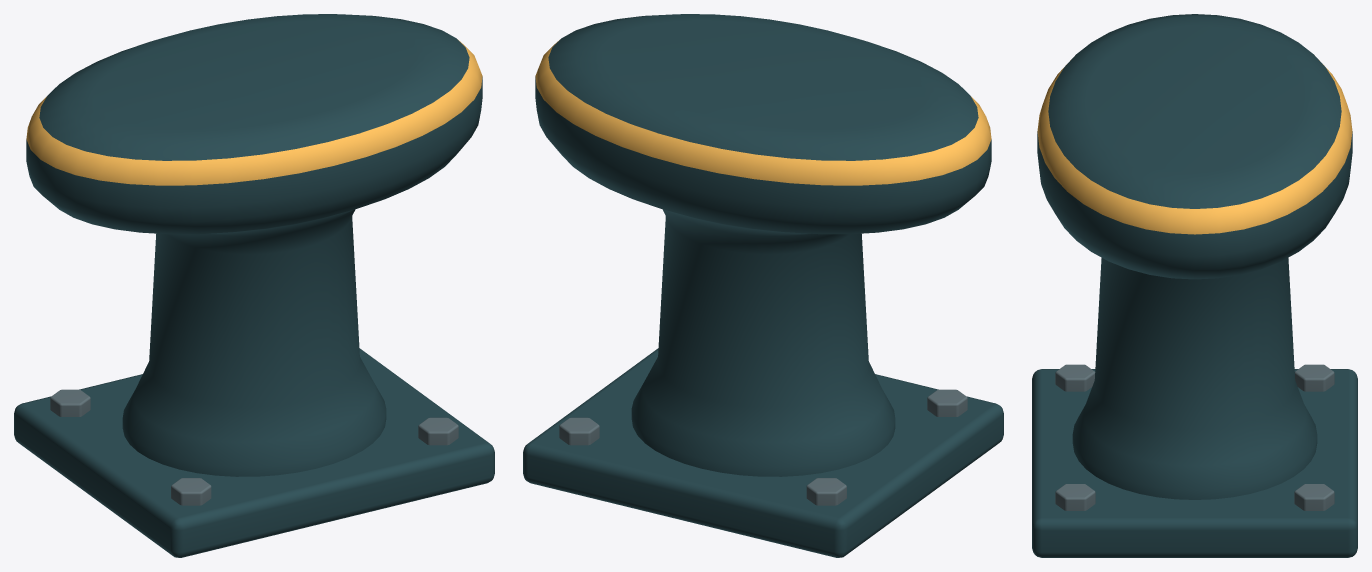
File: city_quay_furniture_01.glb
3 renders of one model, left to right at view 1: azimuth 30°, elevation 25°; view 2: azimuth 150°, elevation 25°; view 3: azimuth 270°, elevation 25°, orthographic.
Parts seen in each view (by area): view 1: CityQuayFurniture01_Mesh; view 2: CityQuayFurniture01_Mesh; view 3: CityQuayFurniture01_Mesh.
Boxes of the visible parts, x1,y1,x2,y2 form: CityQuayFurniture01_Mesh: (14, 14, 494, 557); CityQuayFurniture01_Mesh: (523, 14, 1003, 557); CityQuayFurniture01_Mesh: (1032, 14, 1357, 557).
Size of the model in its own units: 0.9 by 0.78 by 0.6.
